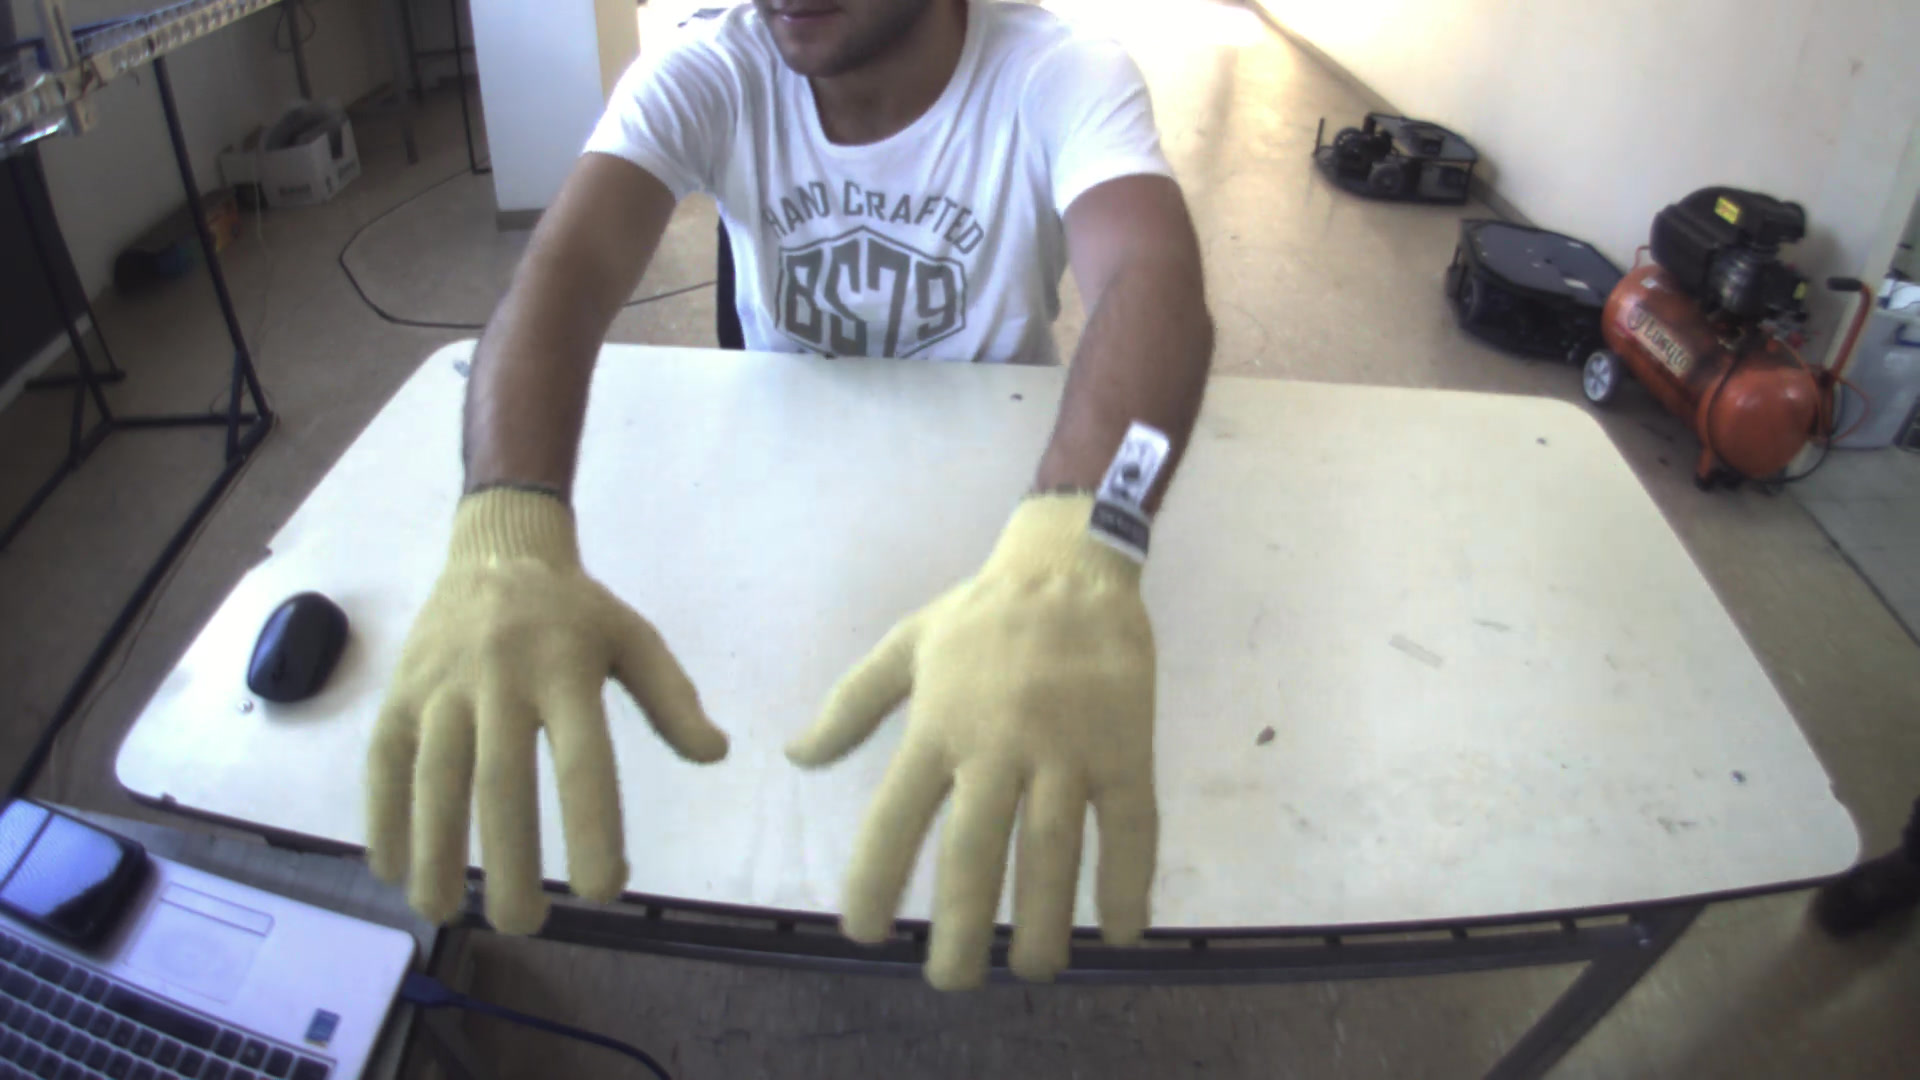hand: (775, 472, 1163, 1010), (328, 454, 715, 945)
